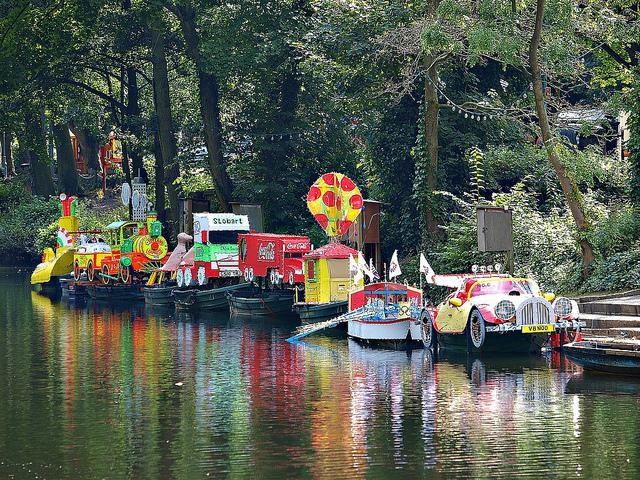Train: (71, 171, 172, 287)
